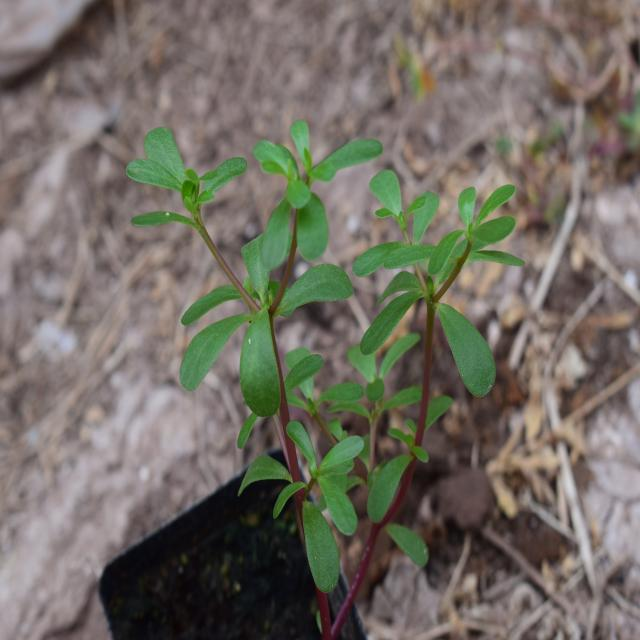purslane: (142, 97, 521, 576)
